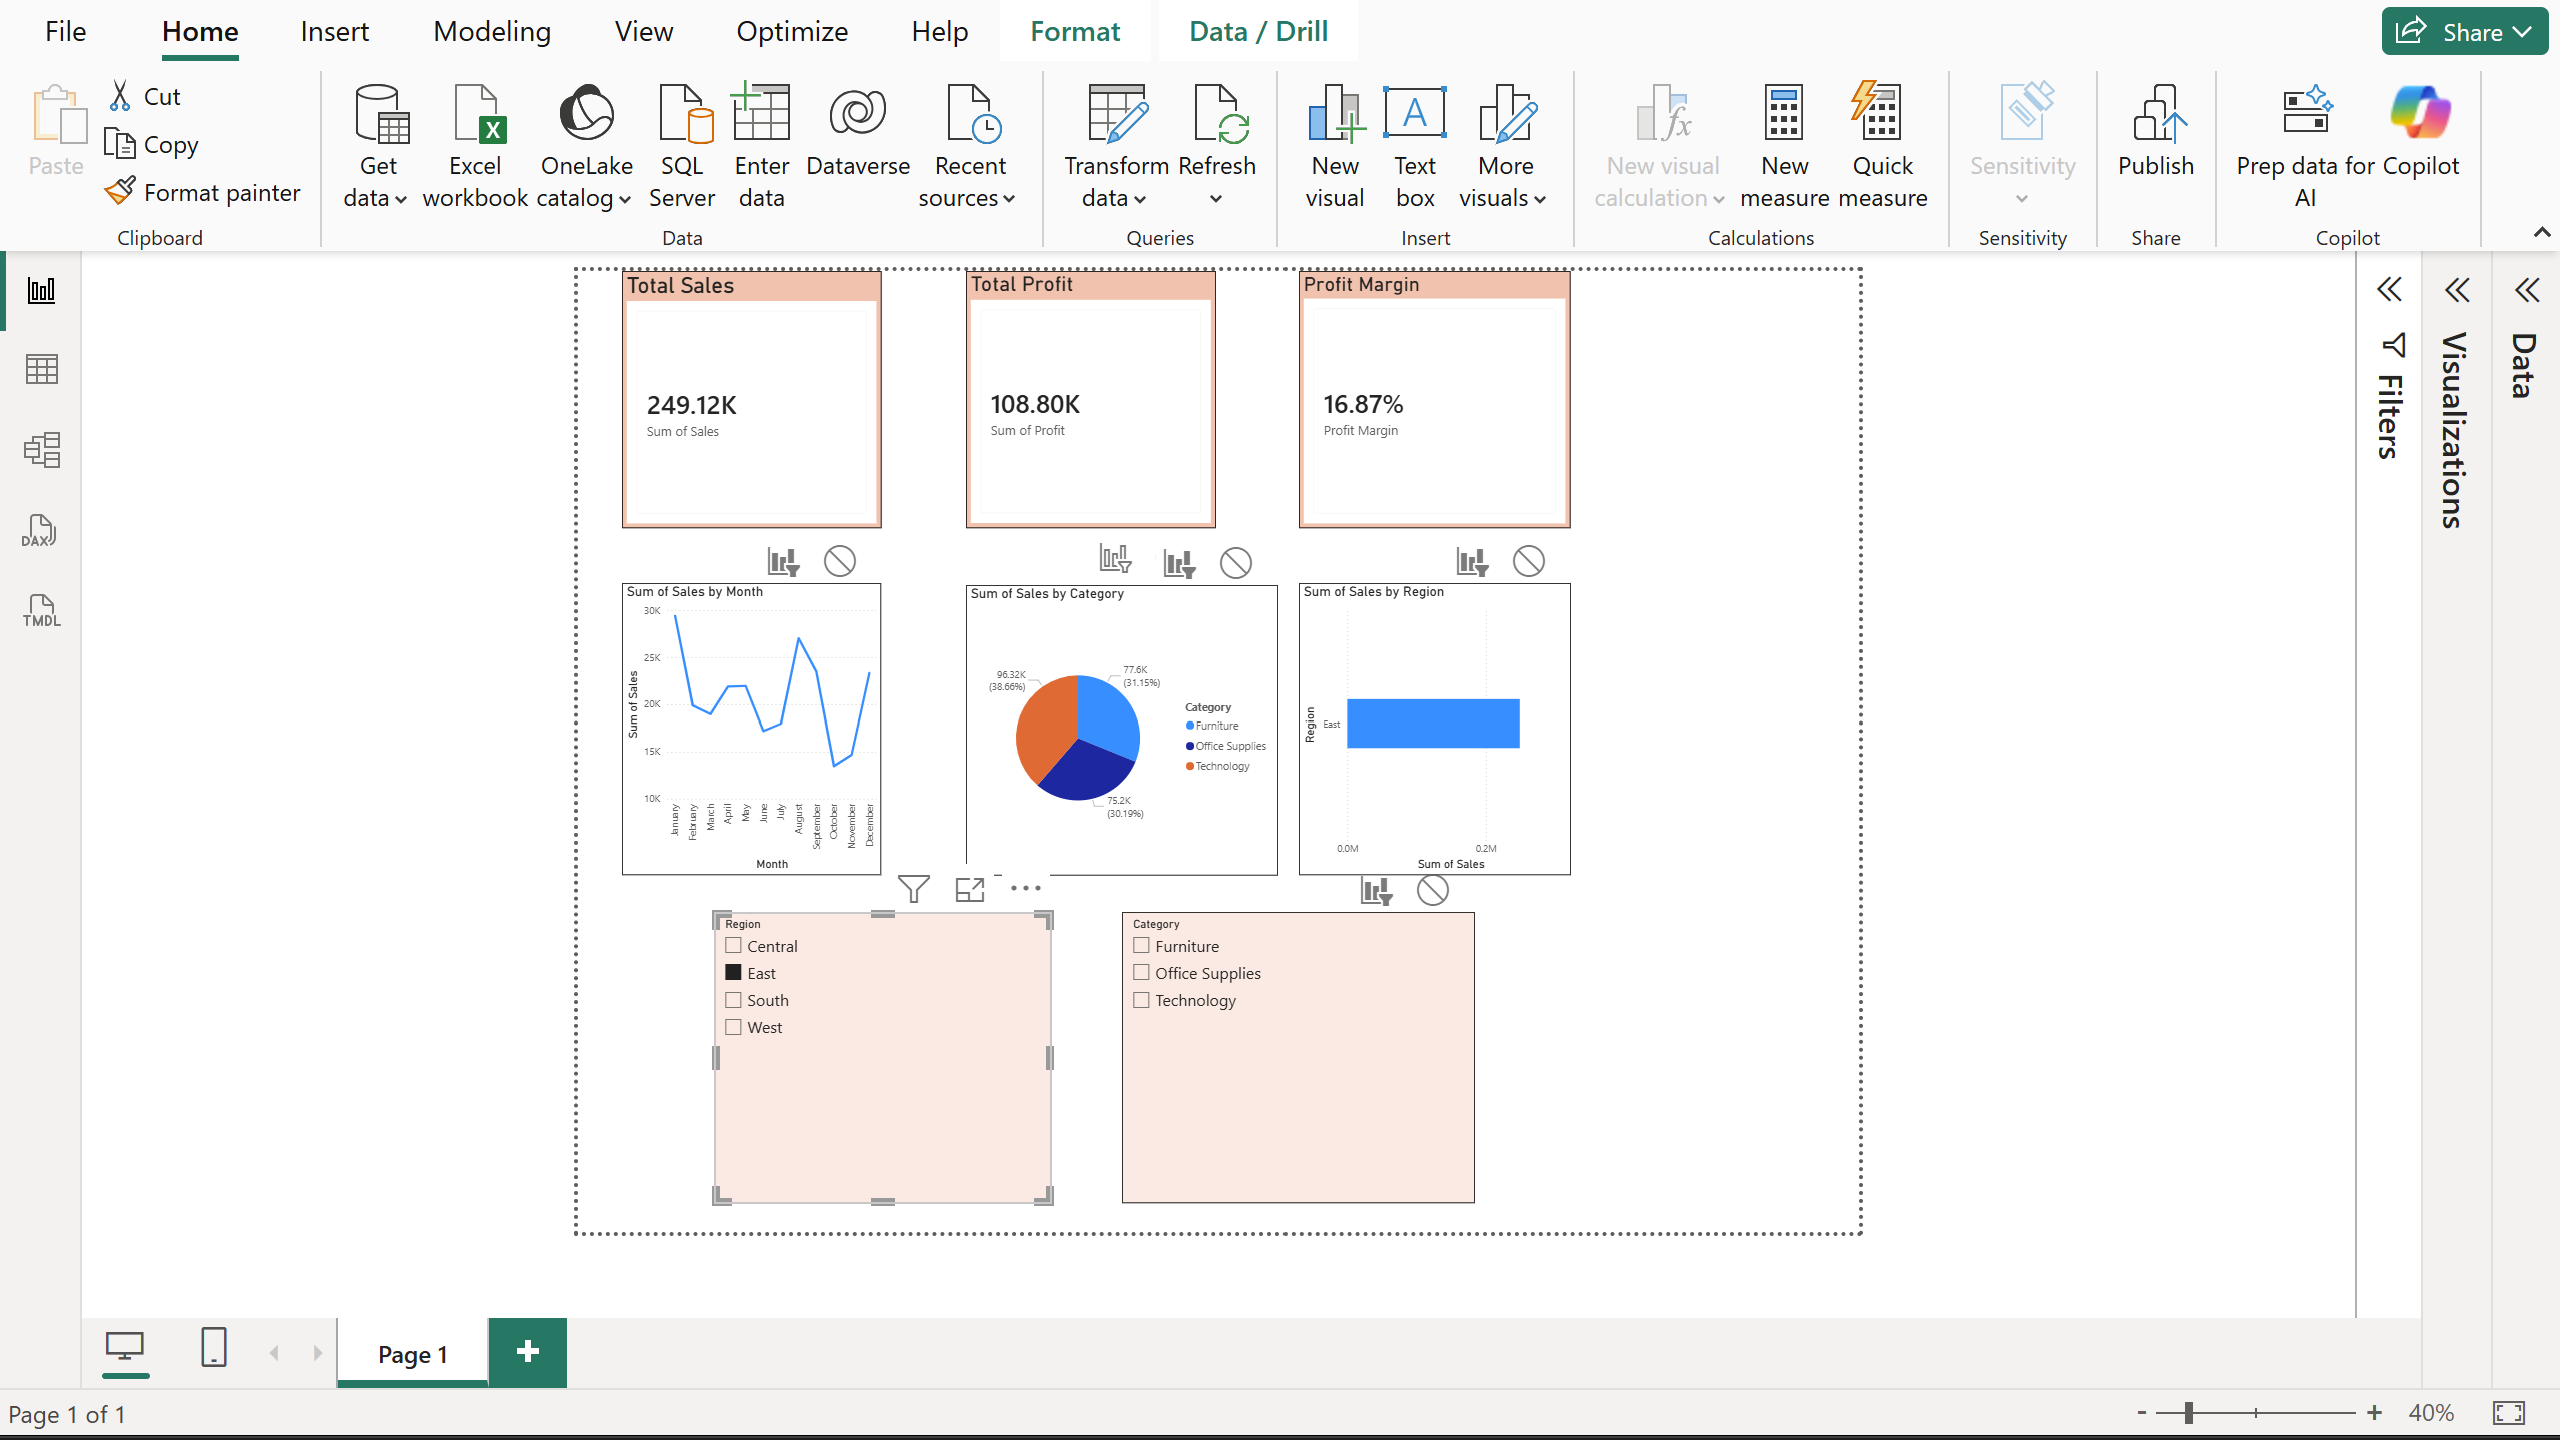

Layout of this report page (visuals, bound fields, positions):
{"tool":"powerbi","page":{"name":"Page 1","canvas":[1600,1200],"ordinal":0},"visuals":[{"type":"cardVisual","title":"Total Sales","fields":{"Data":["Sum(Sample - Superstore.Sales)"]},"box":[56.1,0,324.5,321.5],"z":0},{"type":"cardVisual","title":"Total Profit","fields":{"Data":["Sum(Sample - Superstore.Profit)"]},"box":[483.8,0,312.4,321.5],"z":1000},{"type":"pieChart","fields":{"Y":["Sum(Sample - Superstore.Sales)"],"Series":["Sample - Superstore.Category"]},"box":[484,392,390,362],"z":2000},{"type":"slicer","fields":{"Values":["Sample - Superstore.Region"]},"box":[170,800,422,364],"z":3000},{"type":"slicer","fields":{"Values":["Sample - Superstore.Category"]},"box":[680,800,440,364],"z":4000},{"type":"cardVisual","title":"Profit Margin","fields":{"Data":["Sample - Superstore.Profit Margin"]},"box":[899.3,0,339.7,321.5],"z":5000},{"type":"barChart","fields":{"Category":["Sample - Superstore.Region"],"Y":["Sum(Sample - Superstore.Sales)"]},"box":[900,390,340,364],"z":6000},{"type":"lineChart","fields":{"Category":["Sample - Superstore.Order_Date.Variation.Date Hierarchy.Month"],"Y":["Sum(Sample - Superstore.Sales)"]},"box":[56,390,324,364],"z":6001}]}

Visuals, with their boxes on the page's 1600x1200 design canvas (x1, y1, x2, y2). These are canvas units, not pixel positions in the 2560x1440 screenshot, which may show the page scaled, cropped or inside an application window:
"Total Sales" cardVisual: select_region(56, 0, 381, 322)
"Total Profit" cardVisual: select_region(484, 0, 796, 322)
pieChart - Sum(Sample - Superstore.Sales) x Sample - Superstore.Category: select_region(484, 392, 874, 754)
slicer - Sample - Superstore.Region: select_region(170, 800, 592, 1164)
slicer - Sample - Superstore.Category: select_region(680, 800, 1120, 1164)
"Profit Margin" cardVisual: select_region(899, 0, 1239, 322)
barChart - Sample - Superstore.Region x Sum(Sample - Superstore.Sales): select_region(900, 390, 1240, 754)
lineChart - Sample - Superstore.Order_Date.Variation.Date Hierarchy.Month x Sum(Sample - Superstore.Sales): select_region(56, 390, 380, 754)
